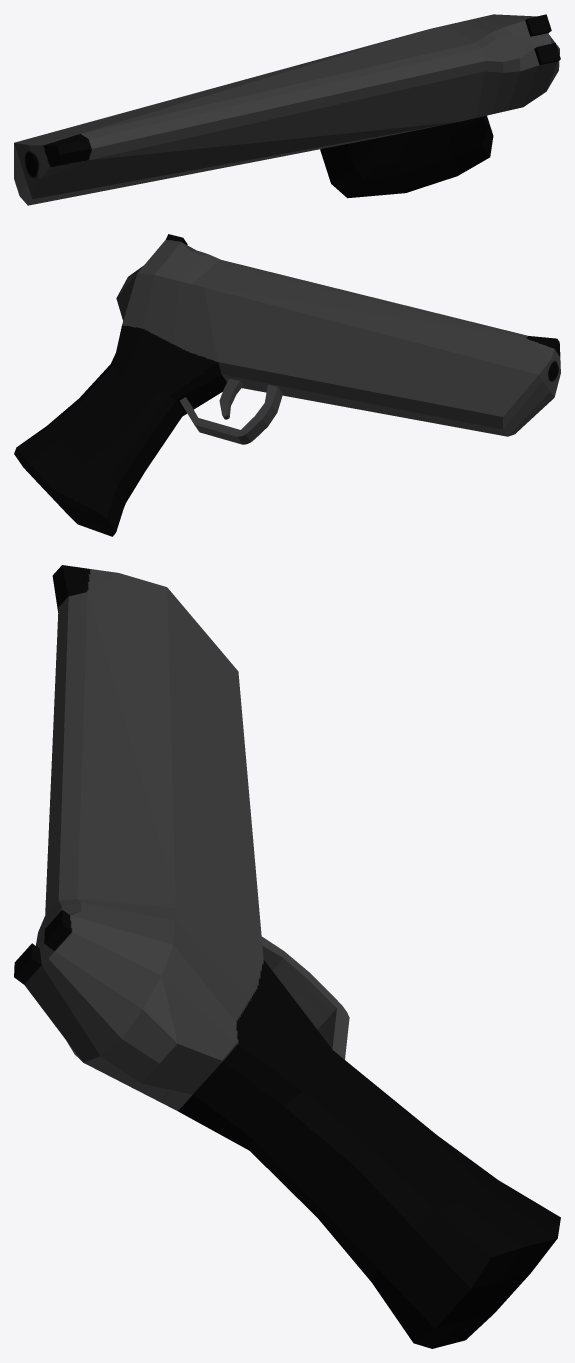
Rendered from gun-ver-6-anim-2.glb.
3 views of the same model, one above another, from view 1: azimuth 30°, elevation 25°; view 2: azimuth 150°, elevation 25°; view 3: azimuth 270°, elevation 25° (orthographic). The views are drawn at different scales.
Visible parts, largest first — view 1: Cube; view 2: Cube, Cube.003, Cube.002; view 3: Cube, Cube.003.
Boxes of the visible parts, left/top/right/bottom form: Cube: left=14, top=14, right=560, bottom=205; Cube: left=14, top=234, right=560, bottom=536; Cube.003: left=179, top=385, right=282, bottom=444; Cube.002: left=219, top=379, right=243, bottom=419; Cube: left=14, top=565, right=560, bottom=1348; Cube.003: left=261, top=936, right=349, bottom=1059.
Bounding box in the file's own units: 18.05 × 8.2 × 9.54.
Materials: 2 (2 with a texture image).
